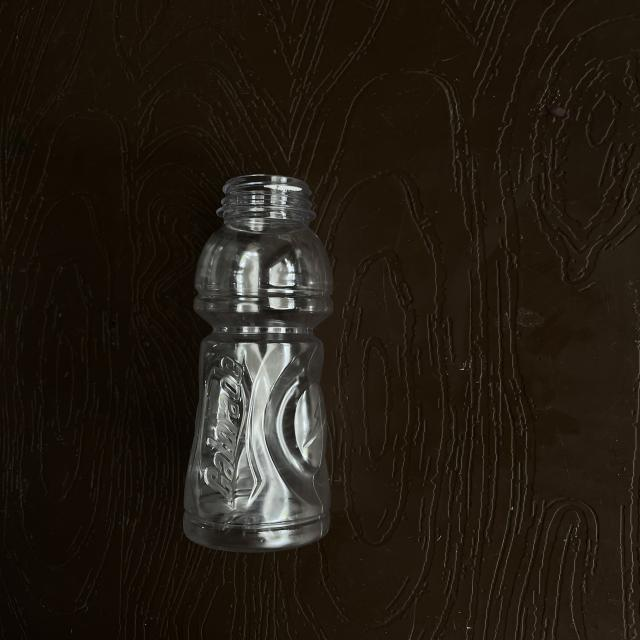PET_ClearBottle: (60, 169, 383, 564)
